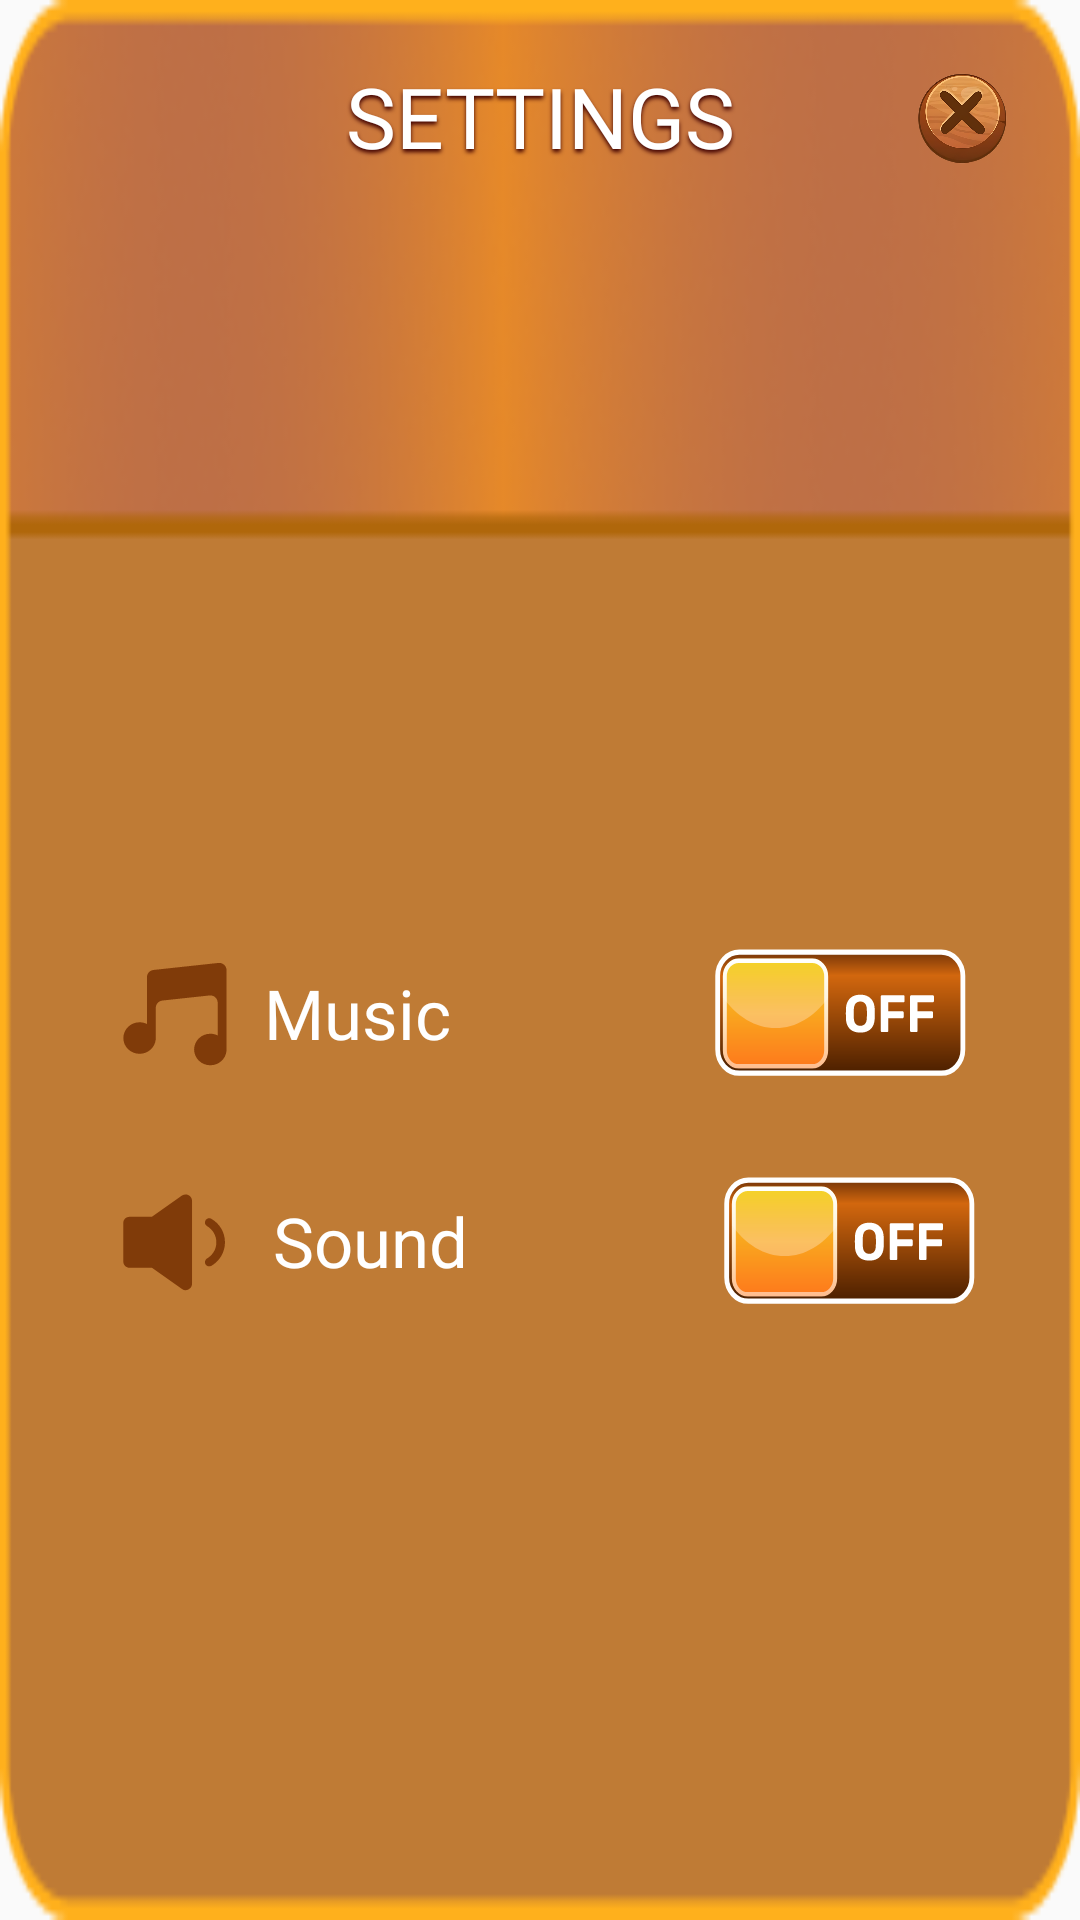

Where icons sit on this 1080px×1920px app screen, as box(x1, y1, x2, y2):
popup close: box(918, 74, 1006, 163)
